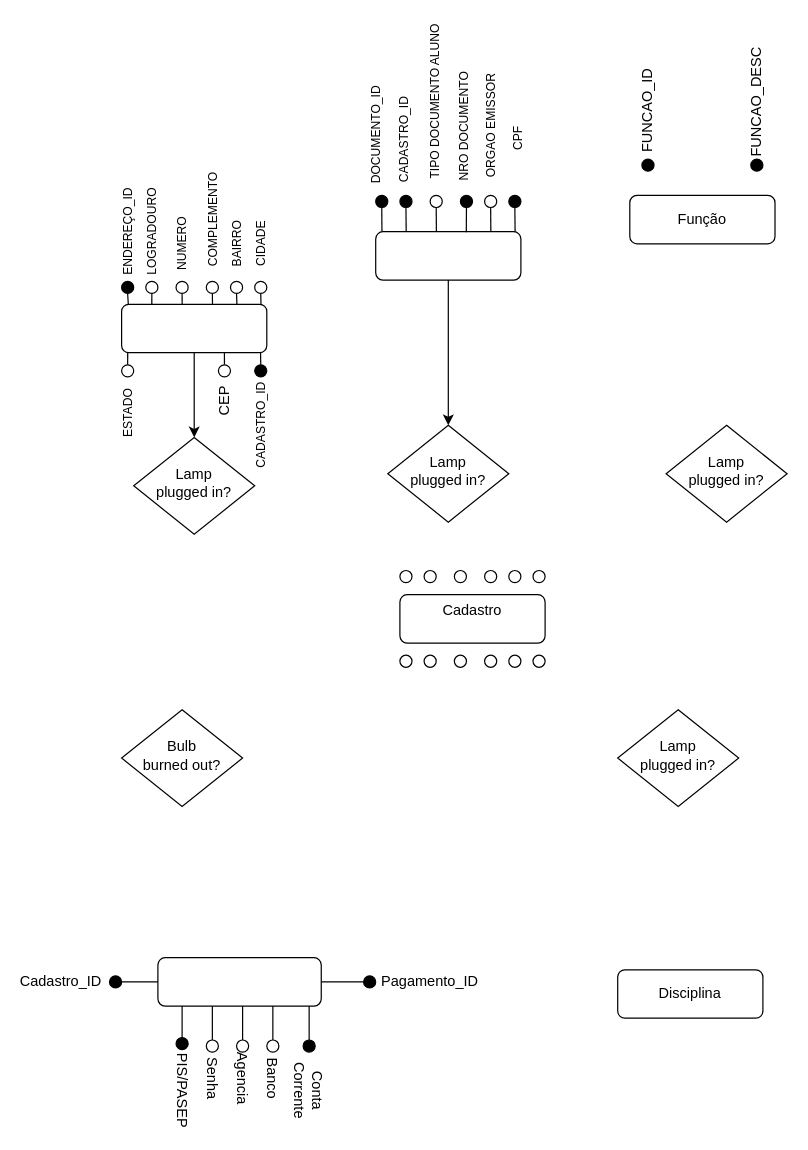
Image size: 808x1150. Some labels were removed from this diagram. The box of each missing label's shape, as (x1, y1, x2, y2) in pixels:
Documento: (374, 231, 521, 280)
Endereço: (120, 303, 267, 353)
Pagamento: (157, 957, 321, 1006)
